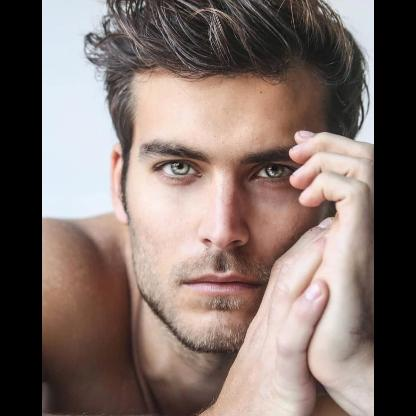Male: (111, 67, 345, 350)
